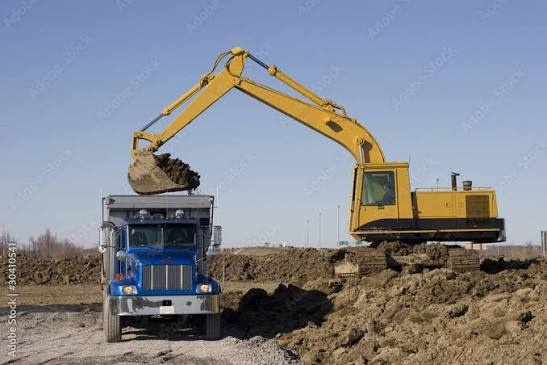excavator: (128, 42, 516, 255)
truck: (89, 184, 241, 335)
